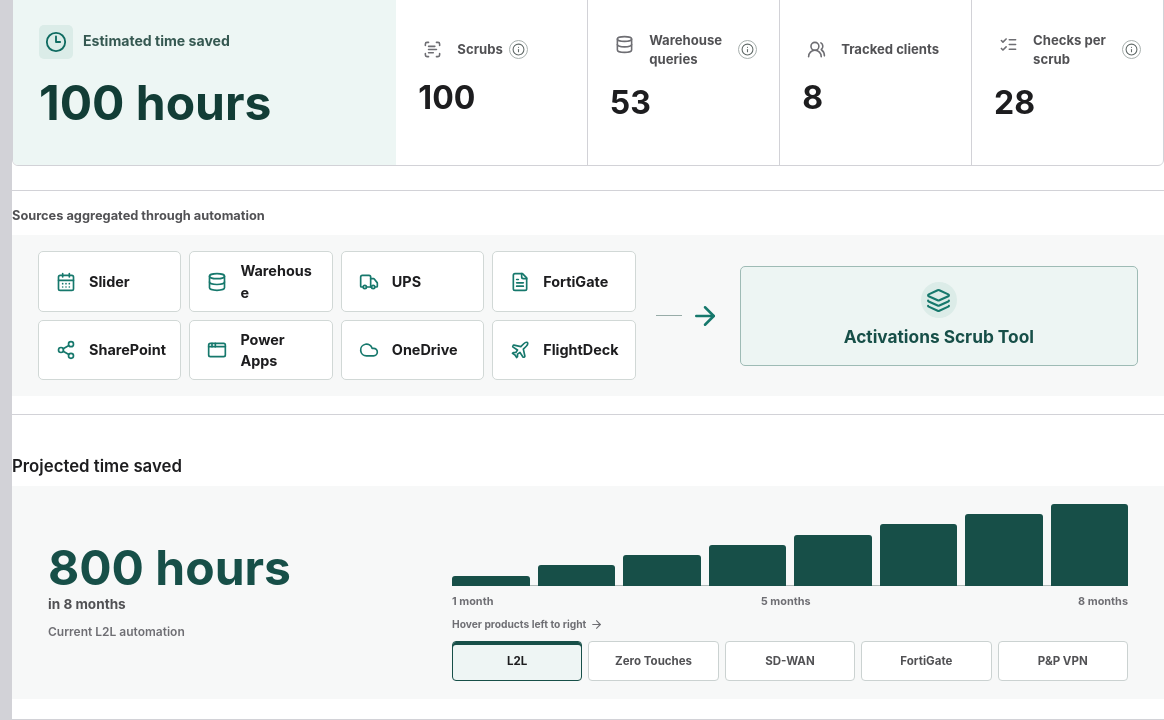
Test: MetricsPage › updates the product-expansion total from the observed L2L projection
(page scrolled)
Expected: the picture named "Projected time saved: 800 hours in 8 months with L2L automation" is shown, [452,504,1128,610]
Hover over the button with aria-label "Include through Plug and Play VPN installs".
mouse_move(1063, 661)  # box [998,641,1128,681]
(page scrolled)
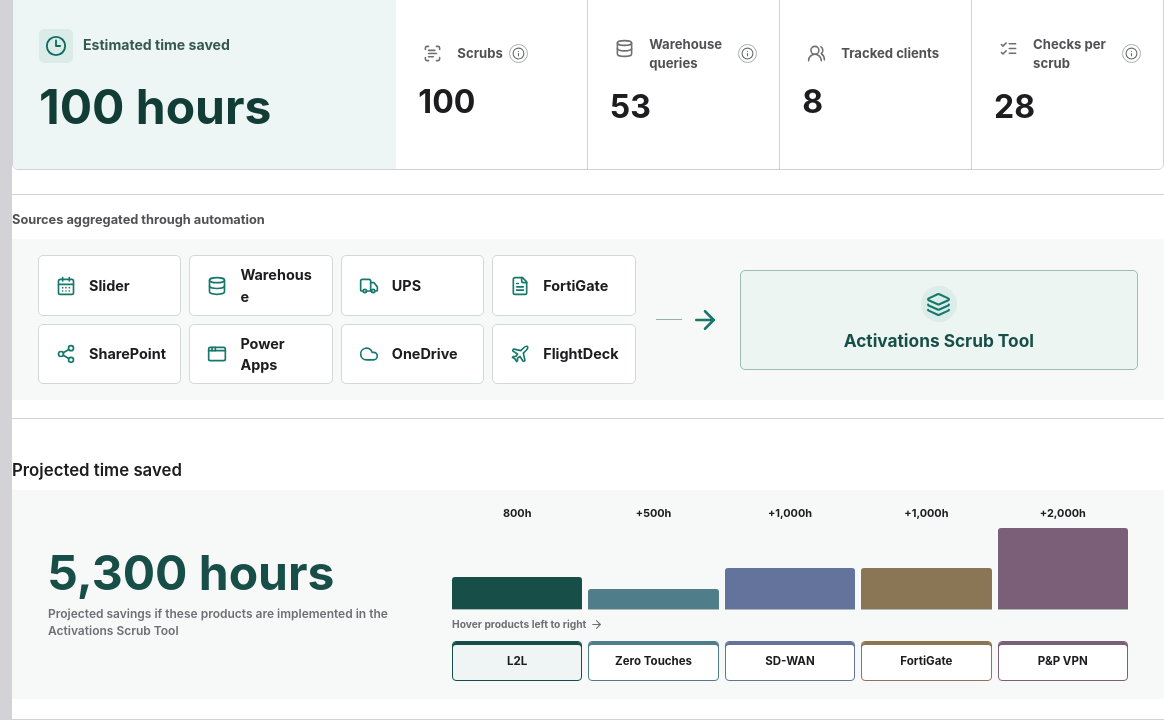
Expected: the picture named "Projected time saved with L2L, Zero Touches, SD-WAN new installs, FortiGate installs, and Plug and Play VPN installs aut" is shown, [452,508,1128,610]
